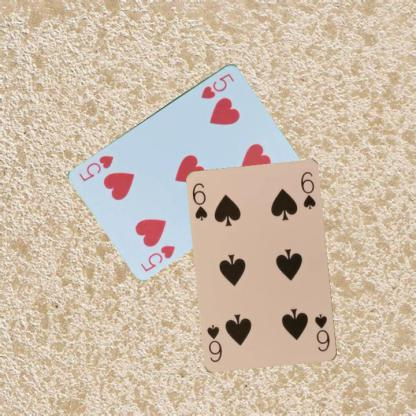5h: (138, 242, 176, 272), (198, 70, 235, 100)
6s: (312, 311, 331, 353), (190, 180, 209, 222)
